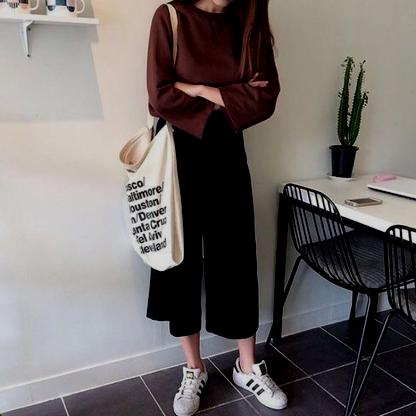dress: (144, 111, 256, 343), (147, 0, 274, 141)
